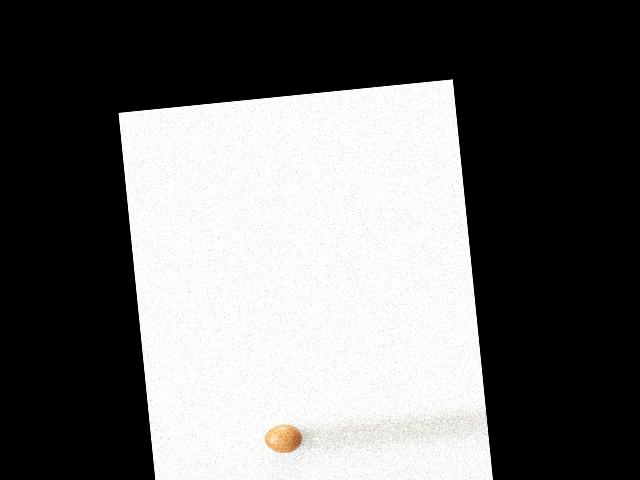egg: (263, 423, 304, 455)
